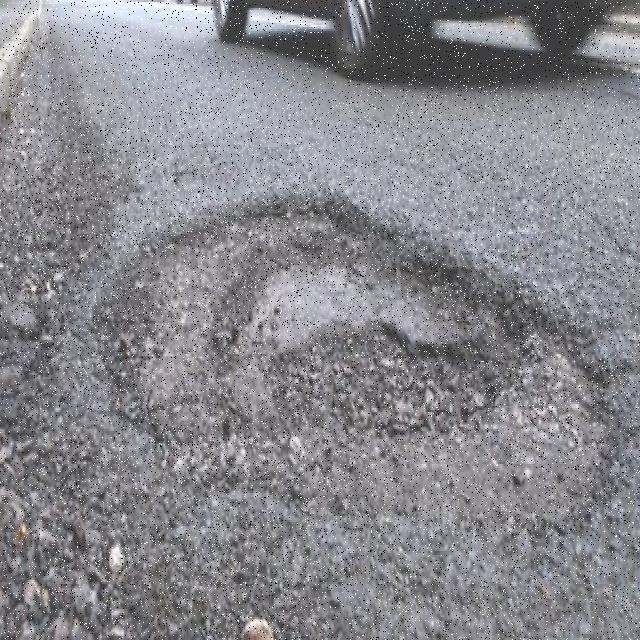pothole: (125, 198, 613, 536)
